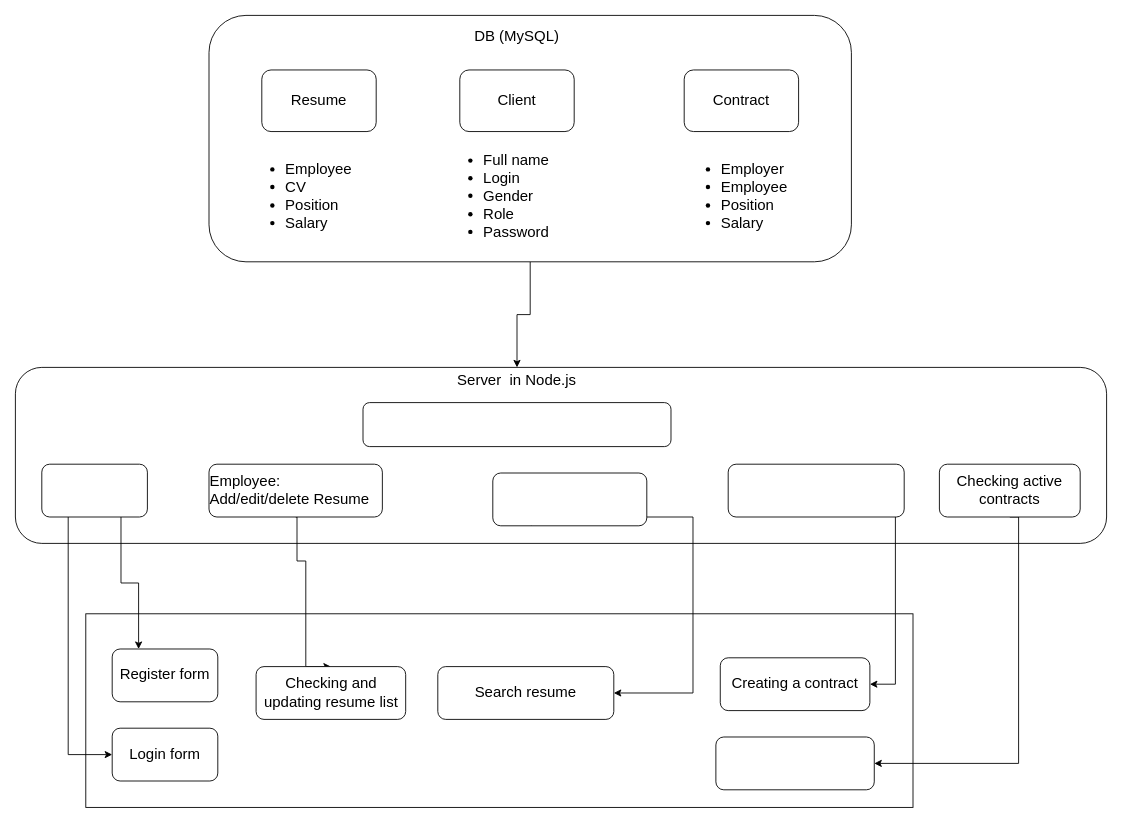
This 1122x823 diagram has some shape labels left out. Here are the shapes that lost their labels. From the top down, the box of each, then its label:
(362, 402, 671, 447): DB API
(41, 463, 147, 517): Authorisation
(492, 472, 647, 526): Employer: checking, listing resume
(727, 463, 904, 517): Employer: send a job application
(715, 736, 874, 790): Checking contracts
